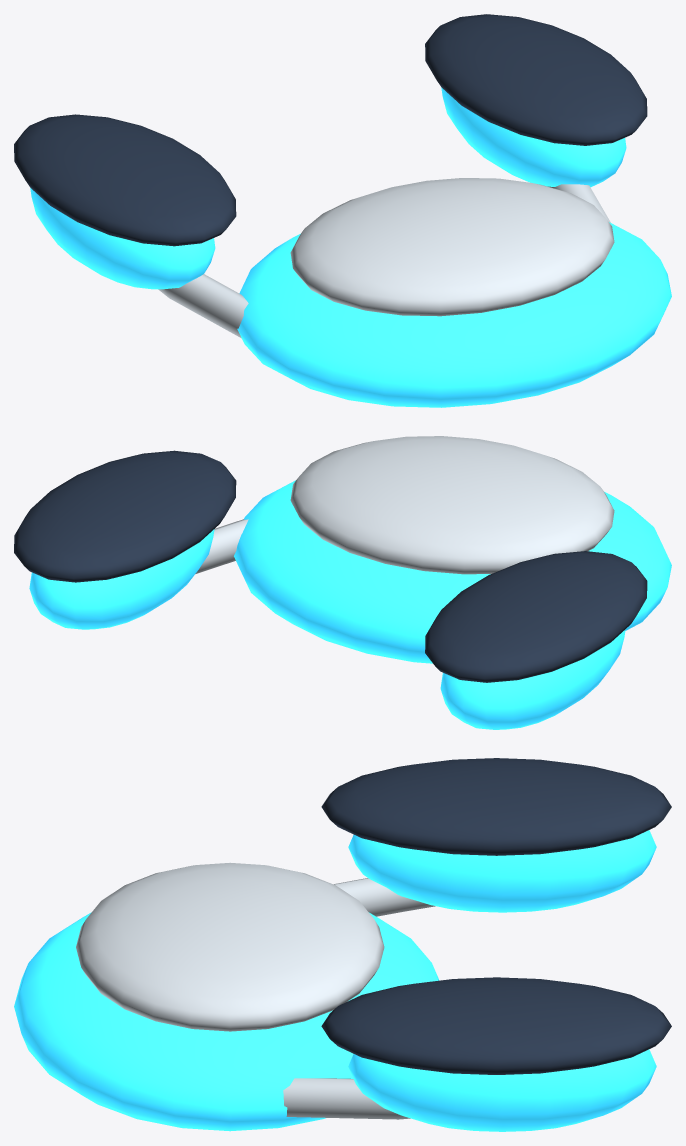
File: open-prong-v1.glb
3 renders of one model, top to bottom at view 1: azimuth 30°, elevation 25°; view 2: azimuth 150°, elevation 25°; view 3: azimuth 270°, elevation 25°, orthographic. The views are drawn at different scales.
Visible parts, largest first — view 1: forward kneecap, kneecap white keyline, prong dark backing, prong dark backing.001, paired thigh prong.001, paired thigh prong, left opening edge; view 2: kneecap white keyline, forward kneecap, prong dark backing, prong dark backing.001, paired thigh prong, paired thigh prong.001, right opening edge; view 3: kneecap white keyline, forward kneecap, prong dark backing.001, prong dark backing, paired thigh prong, paired thigh prong.001, right opening edge, left opening edge.
Part boxes in pixels (bbox=[...]): forward kneecap: bbox=[237, 222, 671, 407]; kneecap white keyline: bbox=[290, 178, 614, 316]; prong dark backing: bbox=[425, 14, 647, 145]; prong dark backing.001: bbox=[14, 114, 236, 246]; paired thigh prong.001: bbox=[30, 188, 215, 289]; paired thigh prong: bbox=[441, 87, 626, 187]; left opening edge: bbox=[158, 274, 248, 338]; kneecap white keyline: bbox=[290, 436, 614, 574]; forward kneecap: bbox=[234, 480, 671, 663]; prong dark backing: bbox=[14, 450, 236, 582]; prong dark backing.001: bbox=[425, 551, 647, 682]; paired thigh prong: bbox=[29, 529, 214, 629]; paired thigh prong.001: bbox=[440, 629, 625, 729]; right opening edge: bbox=[195, 519, 248, 573]; kneecap white keyline: bbox=[76, 862, 384, 1031]; forward kneecap: bbox=[14, 912, 439, 1131]; prong dark backing.001: bbox=[321, 758, 671, 855]; prong dark backing: bbox=[321, 977, 671, 1074]; paired thigh prong: bbox=[348, 1049, 656, 1131]; paired thigh prong.001: bbox=[348, 830, 656, 912]; right opening edge: bbox=[283, 1078, 410, 1119]; left opening edge: bbox=[334, 878, 435, 916].
Size of the model in its own units: 0.614 by 0.173 by 0.563.
